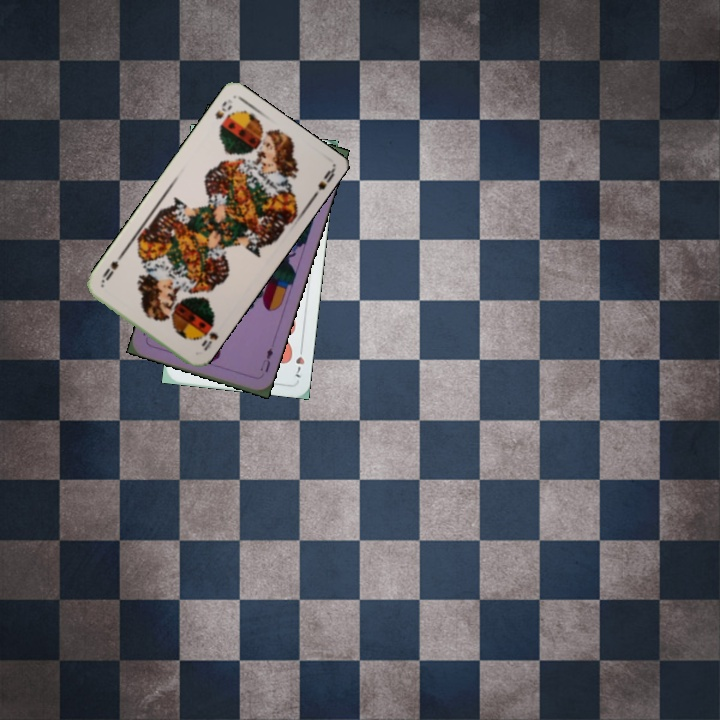EU: (256, 343, 276, 375)
H7: (292, 341, 307, 380)
SO: (197, 328, 221, 353), (211, 97, 235, 122)
